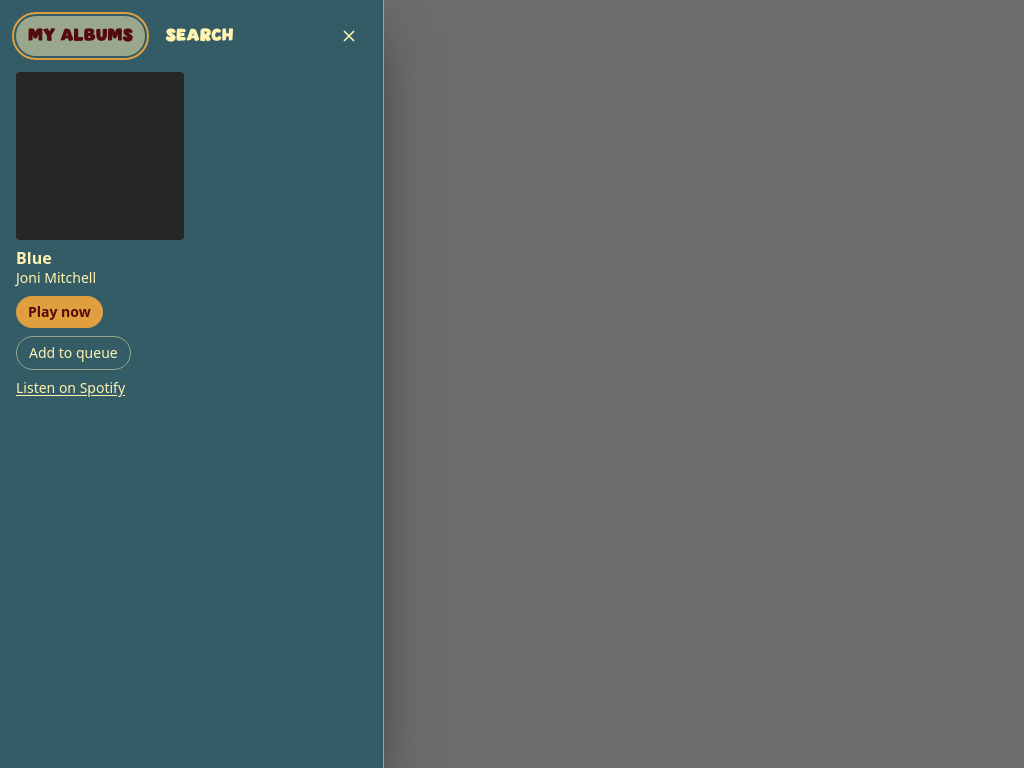
Scenario: BrowseDrawer › switches between My albums and Search
The width and height of the screenshot is (1024, 768).
Expected: the heading "Blue" is shown, [16,246,52,268]
Click the tab "Search".
click(199, 36)  # box [153,16,245,56]
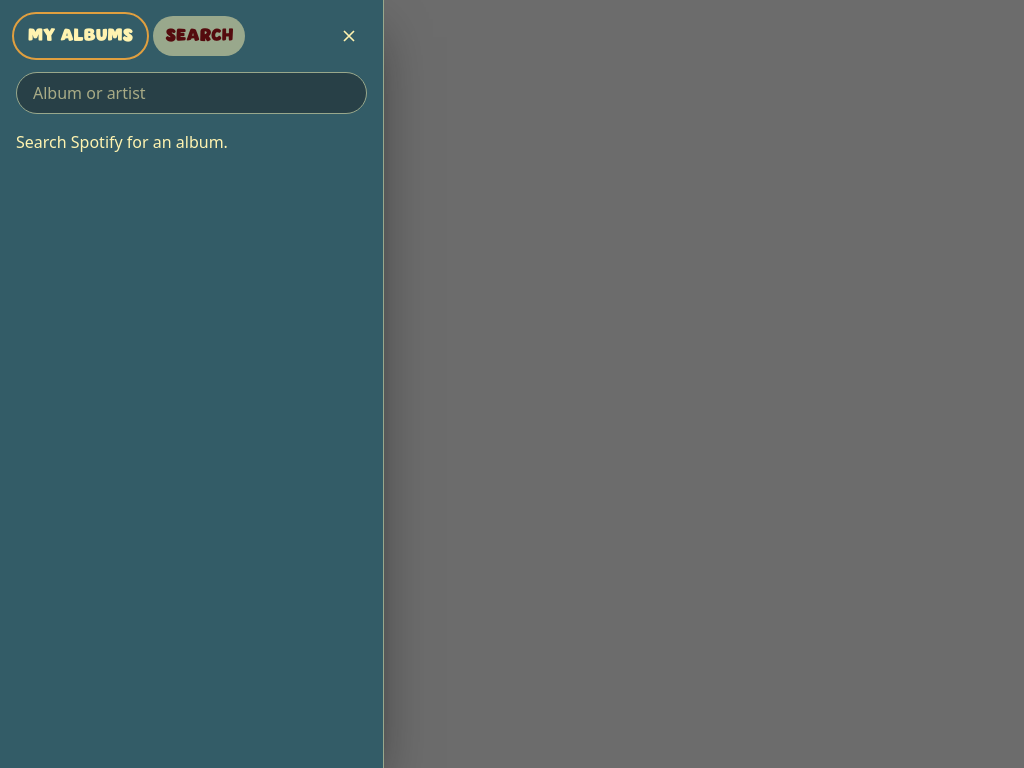
Now the search field named "Search albums" is shown, box [16,72,367,114]
Now the heading "Blue" is gone
